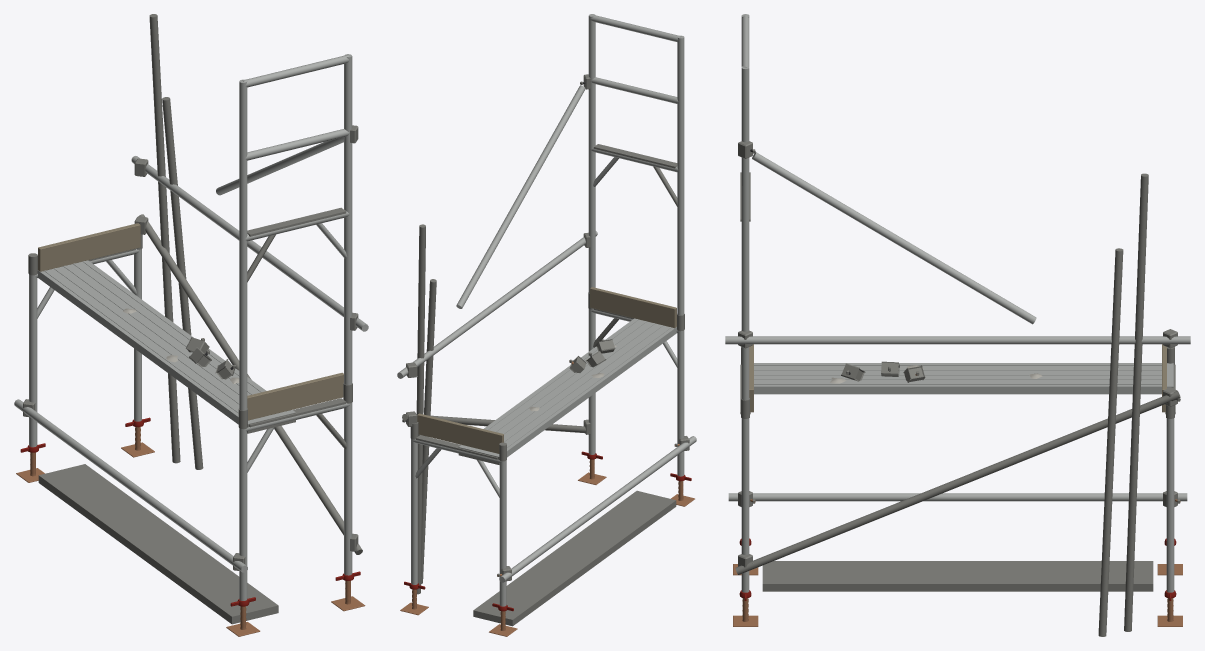
The model's file is scaffold@2.glb.
3 views of the same model, side by side, from view 1: azimuth 30°, elevation 25°; view 2: azimuth 150°, elevation 25°; view 3: azimuth 270°, elevation 25° (orthographic). The views are drawn at different scales.
Parts seen in each view (by area): view 1: teil4, teil6, teil5, teil8, teil10, teil0, teil1; view 2: teil4, teil6, teil8, teil5, teil10, teil0, teil1; view 3: teil4, teil6, teil8, teil5, teil0.
Part boxes in pixels (x1,y1,x2,y2): teil4: (14, 54, 368, 600); teil6: (23, 125, 358, 624); teil5: (28, 14, 362, 554); teil8: (37, 260, 295, 424); teil10: (38, 223, 343, 420); teil0: (16, 442, 365, 636); teil1: (30, 427, 350, 629); teil4: (397, 14, 696, 606); teil6: (402, 74, 689, 626); teil8: (459, 318, 676, 458); teil5: (402, 166, 684, 594); teil10: (417, 287, 676, 453); teil0: (400, 472, 694, 636); teil1: (412, 361, 683, 630); teil4: (725, 14, 1190, 592); teil6: (738, 141, 1180, 591); teil8: (754, 363, 1173, 394); teil5: (735, 173, 1180, 636); teil0: (733, 564, 1182, 626).
Bounding box in the file's own units: 1.02 × 3.61 × 2.74.
